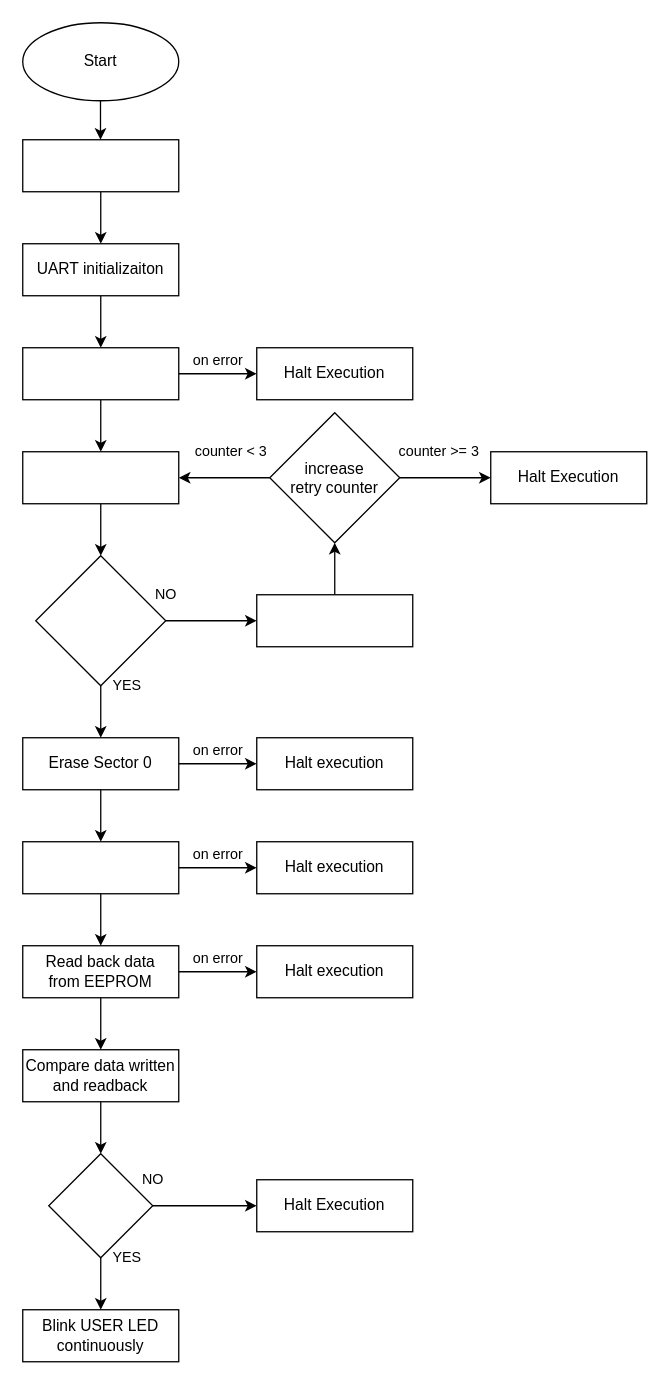
Some shapes in this 670 by 1385 pixel diagram are drawn without their labels. The centre of each missing label's shape, as x and y in pixels:
Check for write access at EEPROM: (x=100, y=477)
Data match?: (x=100, y=1205)
Device initializaiton: (x=100, y=165)
Retry: (x=334, y=620)
SPI and DMA initialization: (x=100, y=373)
Write access?: (x=100, y=620)
Write data to EEPROM: (x=100, y=867)
